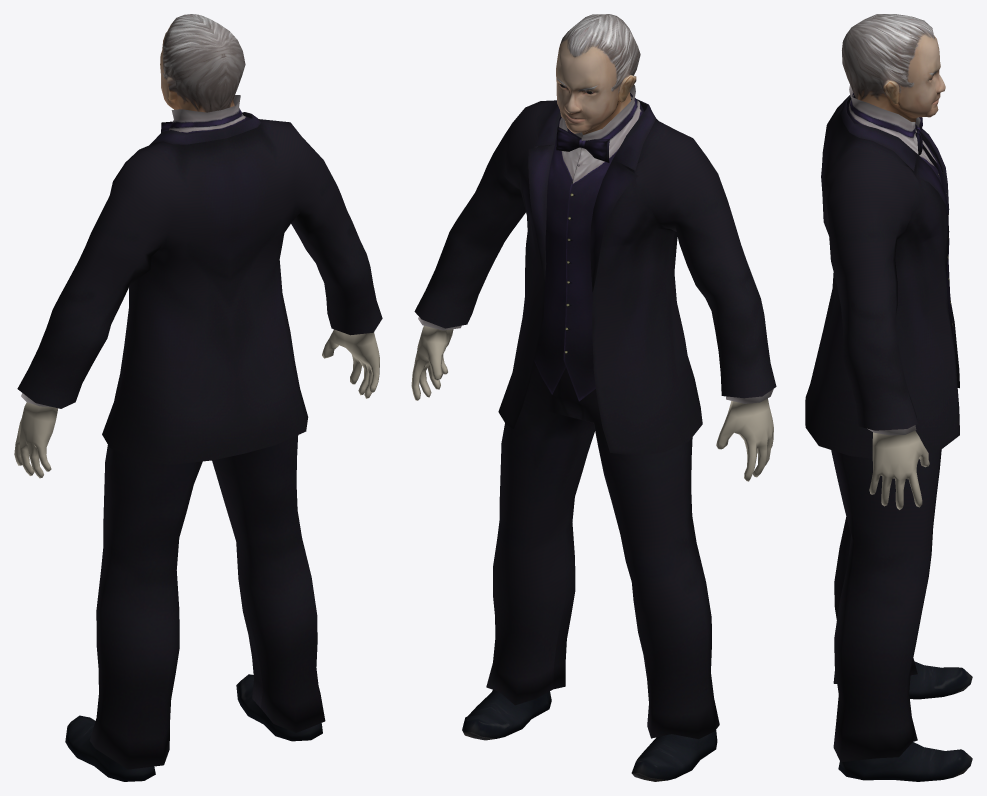
The model's file is yijin.glb.
3 renders of one model, left to right at view 1: azimuth 30°, elevation 25°; view 2: azimuth 150°, elevation 25°; view 3: azimuth 270°, elevation 25°, orthographic.
Parts seen in each view (by area): view 1: Elliot; view 2: Elliot; view 3: Elliot.
Boxes of the visible parts, <box> form: Elliot: <box>14,14,382,781</box>; Elliot: <box>411,14,776,781</box>; Elliot: <box>805,14,972,781</box>.
Size of the model in its own units: 0.9298 by 1.81 by 0.3866.
Materials: 1 (1 with a texture image).
